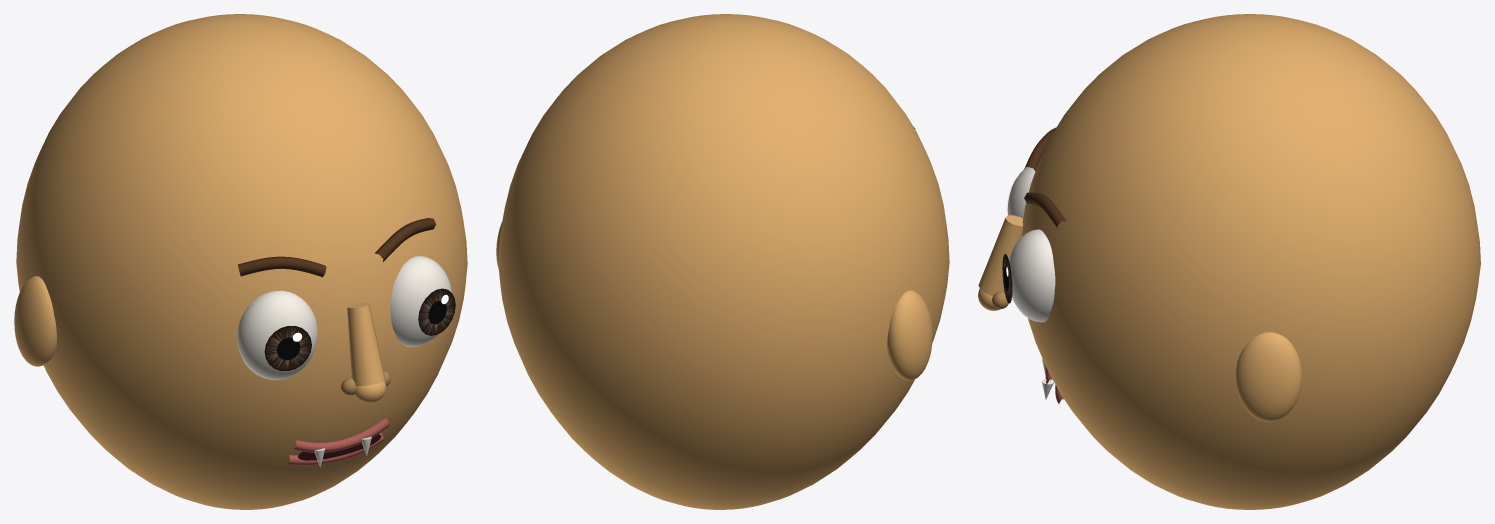
Rendered from 08-crocs.glb.
3 renders of one model, left to right at view 1: azimuth 30°, elevation 25°; view 2: azimuth 150°, elevation 25°; view 3: azimuth 270°, elevation 25°, orthographic.
Bounding box in the file's own units: 0.3087 × 0.321 × 0.3166.
Materials: 11 (1 with a texture image).
